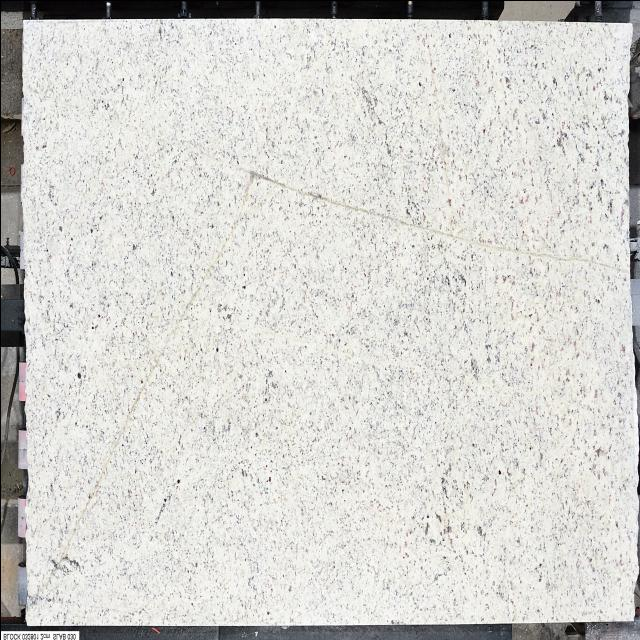chapa: (21, 18, 636, 625)
